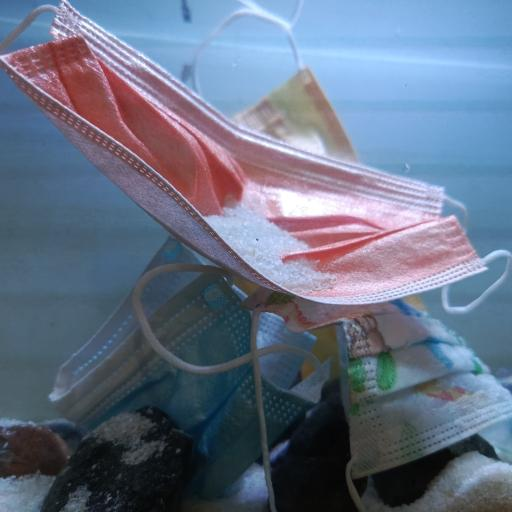mask: (2, 0, 512, 317), (46, 234, 332, 499), (335, 295, 512, 480), (187, 8, 360, 168)
